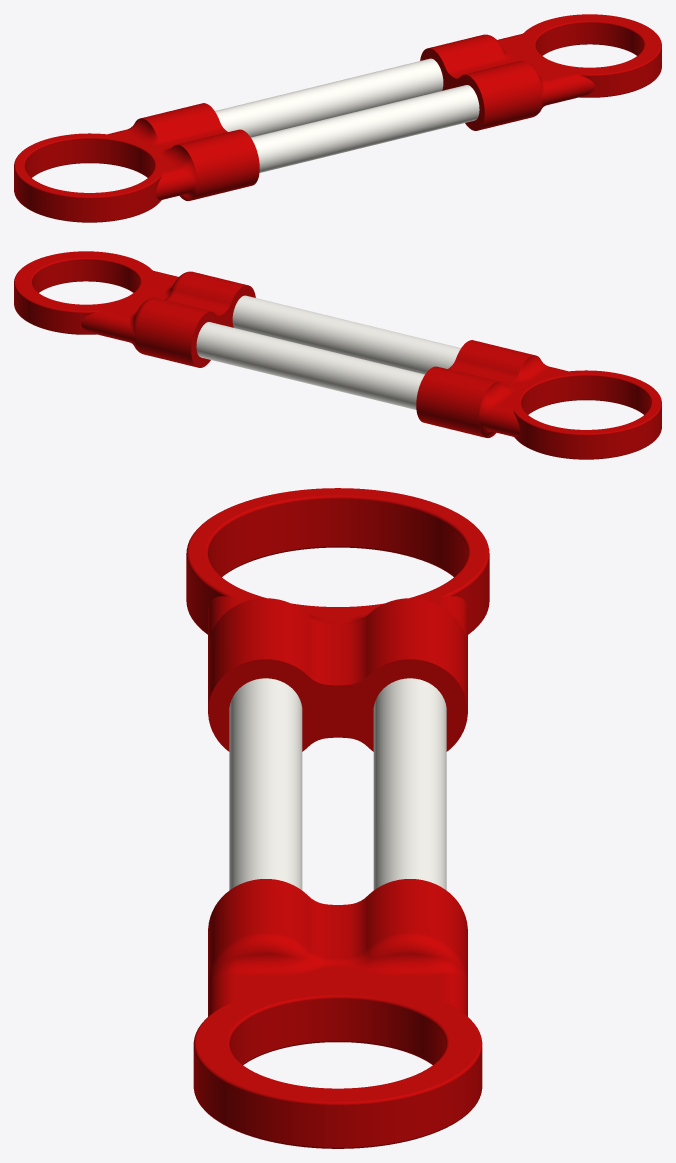
Rendered from crank.dae.
3 renders of one model, top to bottom at view 1: azimuth 30°, elevation 25°; view 2: azimuth 150°, elevation 25°; view 3: azimuth 270°, elevation 25°, orthographic. The views are drawn at different scales.
Parts seen in each view (by area): view 1: ID6, ID9; view 2: ID6, ID9; view 3: ID6, ID9.
Part boxes in pixels (bbox=[...]): ID6: bbox=[14, 14, 661, 222]; ID9: bbox=[215, 58, 479, 172]; ID6: bbox=[14, 251, 661, 459]; ID9: bbox=[196, 295, 460, 409]; ID6: bbox=[186, 488, 489, 1148]; ID9: bbox=[229, 678, 446, 890].
Bounding box in the file's own units: 0.5025 × 0.105 × 0.04.
